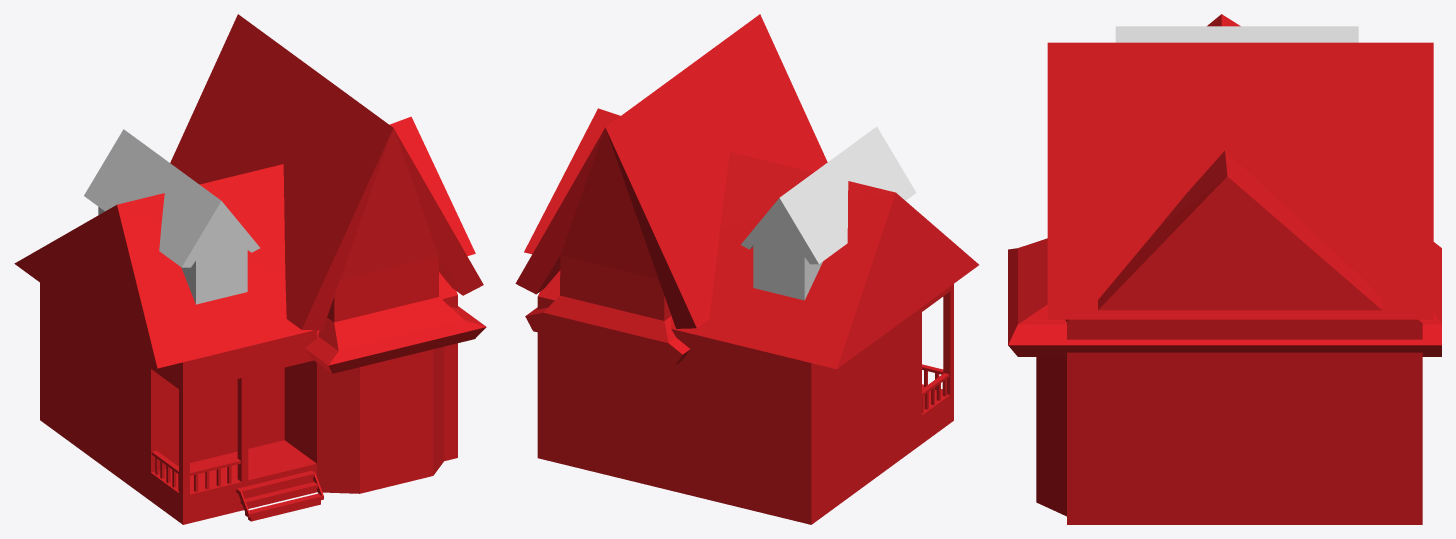
File: Low_Poly_House.fbx
The picture shows the model from 3 angles, left to right: view 1: azimuth 30°, elevation 25°; view 2: azimuth 150°, elevation 25°; view 3: azimuth 270°, elevation 25°; orthographic projection. The views are drawn at different scales.
Visible parts, largest first — view 1: house1, house3, house2; view 2: house1, house3, house2; view 3: house1, house3, house2.
Part boxes in pixels (box(x1,y1,x2,y2)): house1: box(14, 116, 475, 524); house3: box(170, 14, 486, 373); house2: box(84, 129, 260, 304); house1: box(524, 108, 978, 524); house3: box(515, 14, 827, 365); house2: box(741, 126, 916, 300); house1: box(1036, 14, 1422, 524); house3: box(1008, 42, 1441, 356); house2: box(1115, 26, 1358, 42).
Bounding box in the file's own units: 509 × 522 × 466.
